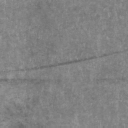finishing roll printing: (0, 48, 128, 74), (0, 78, 62, 82), (96, 76, 128, 80)
